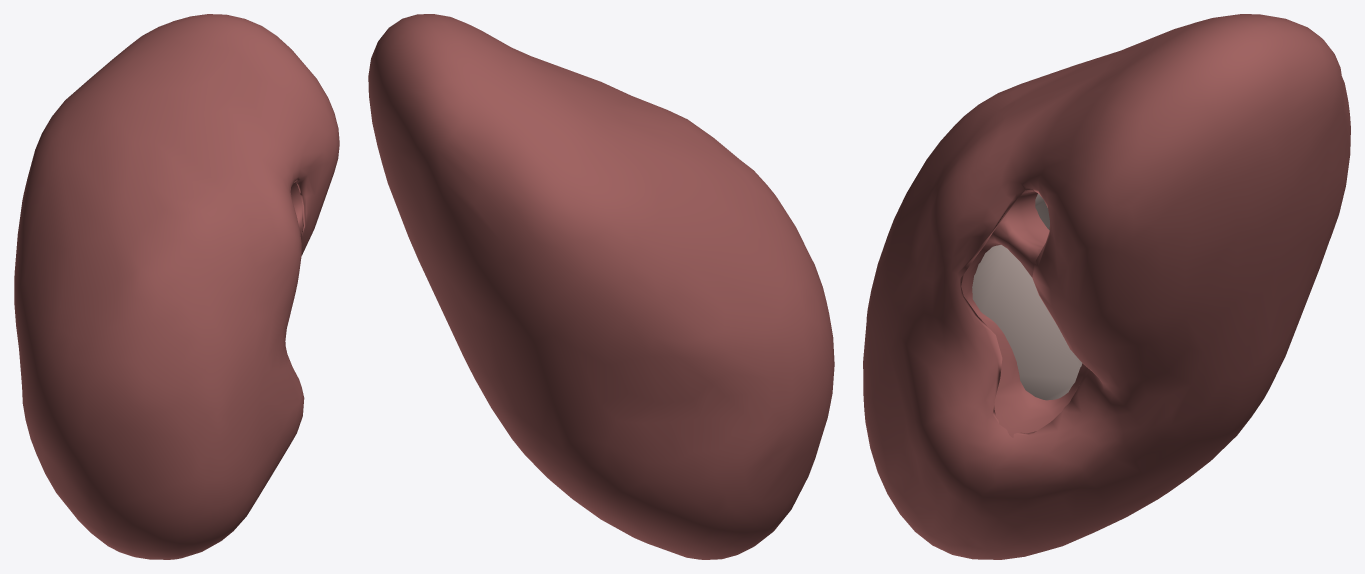
The model's file is vh_f_kidney_r-40.glb.
3 views of the same model, side by side, from view 1: azimuth 30°, elevation 25°; view 2: azimuth 150°, elevation 25°; view 3: azimuth 270°, elevation 25° (orthographic). The views are drawn at different scales.
Visible parts, largest first — view 1: VH_F_kidney_capsule_R; view 2: VH_F_kidney_capsule_R; view 3: VH_F_kidney_capsule_R, VH_F_renal_column_R, VH_F_hilum_of_kidney_R.
Part boxes in pixels (<box>): VH_F_kidney_capsule_R: <box>14,14,339,559</box>; VH_F_kidney_capsule_R: <box>368,14,834,559</box>; VH_F_kidney_capsule_R: <box>863,14,1350,559</box>; VH_F_renal_column_R: <box>972,193,1082,400</box>; VH_F_hilum_of_kidney_R: <box>961,189,1087,437</box>.
Bounding box in the file's own units: 0.0734 × 0.0979 × 0.0695.
